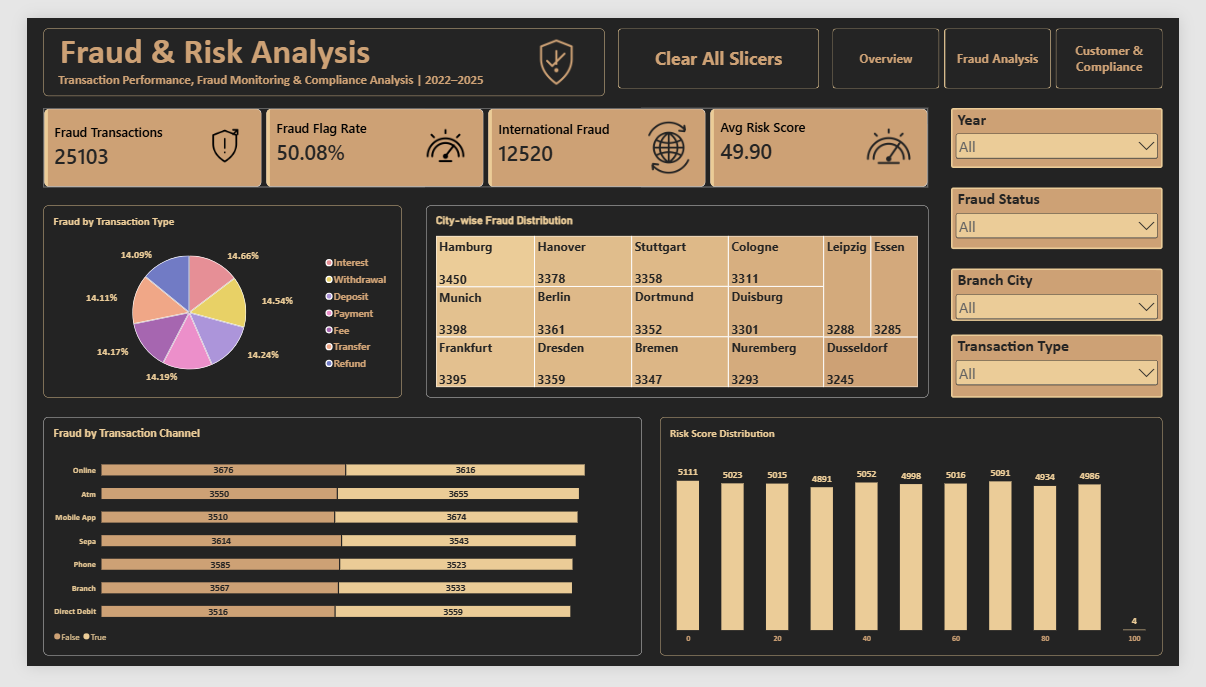

The page's visual inventory and layout, read from the dashboard file:
{"tool":"powerbi","page":{"name":"Fraud Analysis","canvas":[1920,1080],"ordinal":1},"visuals":[{"type":"cardVisual","fields":{"Data":["Banking_Transactions_2022_2025.Fraud Flagged Transactions","Banking_Transactions_2022_2025.Fraud Flag Rate","Banking_Transactions_2022_2025.International Fraud Transactions","Banking_Transactions_2022_2025.Avg Risk Score"]},"box":[27.5,150,1475,132.5],"z":0},{"type":"textbox","box":[27.5,17.5,935,112.5],"z":1000},{"type":"image","box":[755,25,255,100],"z":2000},{"type":"slicer","fields":{"Values":["Banking_Transactions_2022_2025.transaction_date.Variation.Date Hierarchy.Year"]},"box":[1540,150,352.5,100],"z":3000},{"type":"slicer","fields":{"Values":["Banking_Transactions_2022_2025.fraud_flag"]},"box":[1540,282.5,352.5,102.5],"z":4000},{"type":"slicer","fields":{"Values":["Banking_Transactions_2022_2025.transaction_type"]},"box":[1540,527.5,352.5,105],"z":5000},{"type":"slicer","fields":{"Values":["Banking_Transactions_2022_2025.branch_city"]},"box":[1540,417.5,352.5,87.5],"z":6000},{"type":"pieChart","title":"Fraud by Transaction Type","fields":{"Category":["Banking_Transactions_2022_2025.transaction_type"],"Y":["Banking_Transactions_2022_2025.Fraud Flagged Transactions"]},"box":[27.5,312.5,597.5,320],"z":8000},{"type":"barChart","title":"Fraud by Transaction Channel","fields":{"Category":["Banking_Transactions_2022_2025.transaction_channel"],"Series":["Banking_Transactions_2022_2025.fraud_flag"],"Y":["CountNonNull(Banking_Transactions_2022_2025.transaction_id)"]},"box":[27.5,665,997.5,397.5],"z":9000},{"type":"columnChart","title":"Risk Score Distribution","fields":{"Category":["Banking_Transactions_2022_2025.risk_score (bins)"],"Y":["CountNonNull(Banking_Transactions_2022_2025.transaction_id)"]},"box":[1055,665,837.5,397.5],"z":10000},{"type":"treemap","title":"City-wise Fraud Distribution","fields":{"Group":["Banking_Transactions_2022_2025.branch_city"],"Values":["Banking_Transactions_2022_2025.Total Transactions"]},"box":[665,312.5,837.5,320],"z":11000},{"type":"pageNavigator","box":[1342.5,17.5,550,100],"z":11001},{"type":"actionButton","box":[985,17.5,335,100],"z":11002}]}

Visuals, with their boxes in screenshot pixels (x1, y1, x2, y2), scaled from the page's 1920x1080 canvas onto the 1206x687 screenshot:
cardVisual - Banking_Transactions_2022_2025.Fraud Flagged Transactions x Banking_Transactions_2022_2025.Fraud Flag Rate: locate(17, 95, 944, 180)
textbox: locate(17, 11, 605, 83)
image: locate(474, 16, 634, 80)
slicer - Banking_Transactions_2022_2025.transaction_date.Variation.Date Hierarchy.Year: locate(967, 95, 1189, 159)
slicer - Banking_Transactions_2022_2025.fraud_flag: locate(967, 180, 1189, 245)
slicer - Banking_Transactions_2022_2025.transaction_type: locate(967, 336, 1189, 402)
slicer - Banking_Transactions_2022_2025.branch_city: locate(967, 266, 1189, 321)
"Fraud by Transaction Type" pieChart: locate(17, 199, 393, 402)
"Fraud by Transaction Channel" barChart: locate(17, 423, 644, 676)
"Risk Score Distribution" columnChart: locate(663, 423, 1189, 676)
"City-wise Fraud Distribution" treemap: locate(418, 199, 944, 402)
pageNavigator: locate(843, 11, 1189, 75)
actionButton: locate(619, 11, 829, 75)
